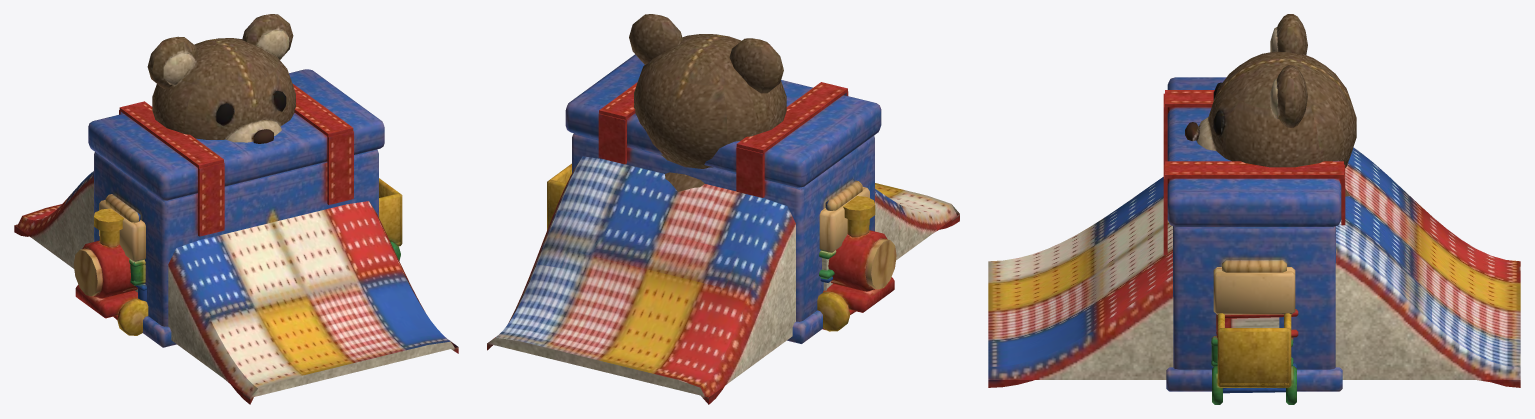
File: props_batch2_medium.glb
3 views of the same model, side by side, from view 1: azimuth 30°, elevation 25°; view 2: azimuth 150°, elevation 25°; view 3: azimuth 270°, elevation 25° (orthographic). The views are drawn at different scales.
Visible parts, largest first — view 1: PillowHill, ToyChest, Teddy, Train, RulerBridge; view 2: PillowHill, ToyChest, Teddy, Train, RulerBridge; view 3: PillowHill, ToyChest, Teddy, Train, RulerBridge.
Boxes of the visible parts, x1,y1,x2,y2 form: PillowHill: (14, 171, 458, 404); ToyChest: (88, 69, 384, 347); Teddy: (147, 14, 295, 143); Train: (73, 178, 402, 335); RulerBridge: (99, 200, 146, 319); PillowHill: (487, 156, 959, 404); ToyChest: (565, 54, 881, 343); Teddy: (629, 14, 786, 191); Train: (547, 163, 896, 331); RulerBridge: (819, 187, 869, 329); PillowHill: (988, 147, 1520, 387); ToyChest: (1163, 77, 1345, 391); Teddy: (1185, 14, 1356, 196); Train: (1212, 313, 1296, 404); RulerBridge: (1211, 267, 1298, 393).
Size of what is drawn, in the model's own units: 7.23 by 5.85 by 9.8.
Materials: 1 (1 with a texture image).
